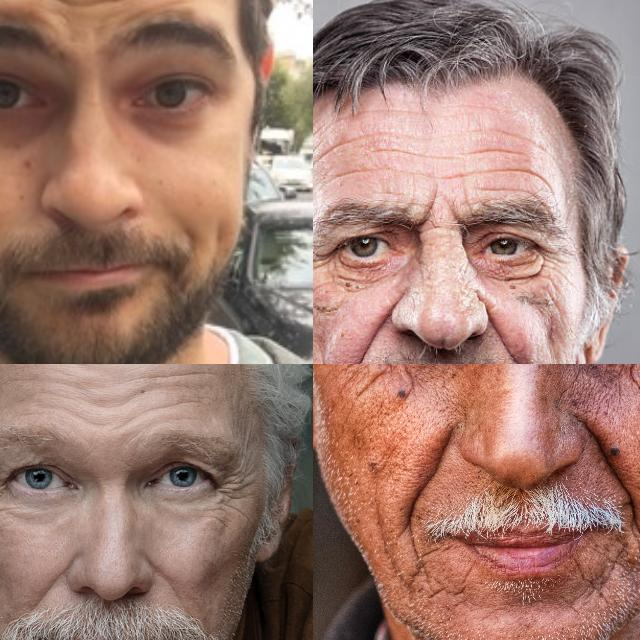chin: (412, 550, 472, 604), (574, 564, 612, 606)
crows_feet: (536, 239, 570, 285), (215, 468, 248, 510), (313, 245, 334, 284), (0, 466, 11, 501)
forehead: (468, 130, 540, 188), (377, 126, 453, 174), (313, 123, 360, 161), (155, 364, 207, 386), (132, 396, 194, 414), (44, 372, 92, 394), (68, 406, 110, 430)
frown_line: (420, 183, 460, 233)
gummy_smile: (581, 425, 640, 505), (406, 434, 456, 514), (480, 303, 524, 364), (351, 307, 398, 364), (32, 558, 70, 604), (150, 560, 182, 598)
masseter: (356, 367, 392, 399)
